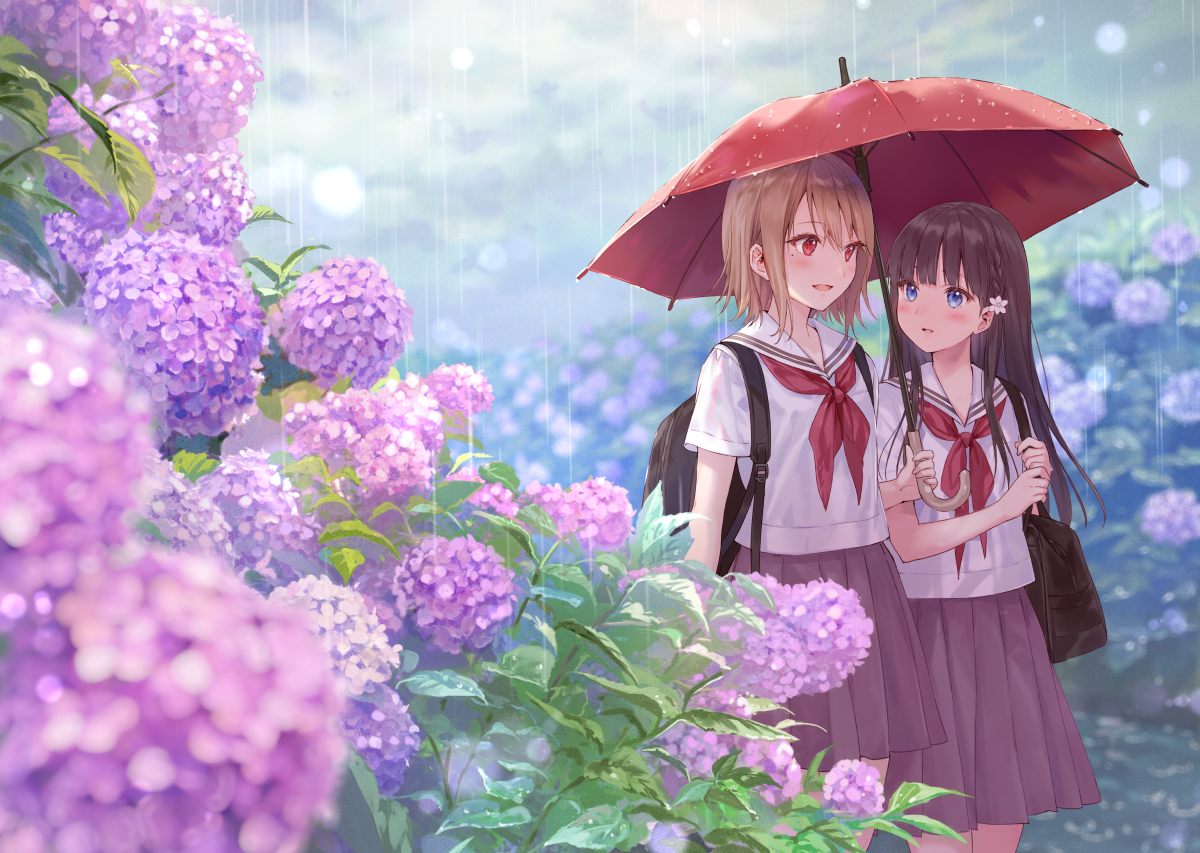纸片人正脸: (878, 198, 1032, 358), (736, 153, 885, 315)
